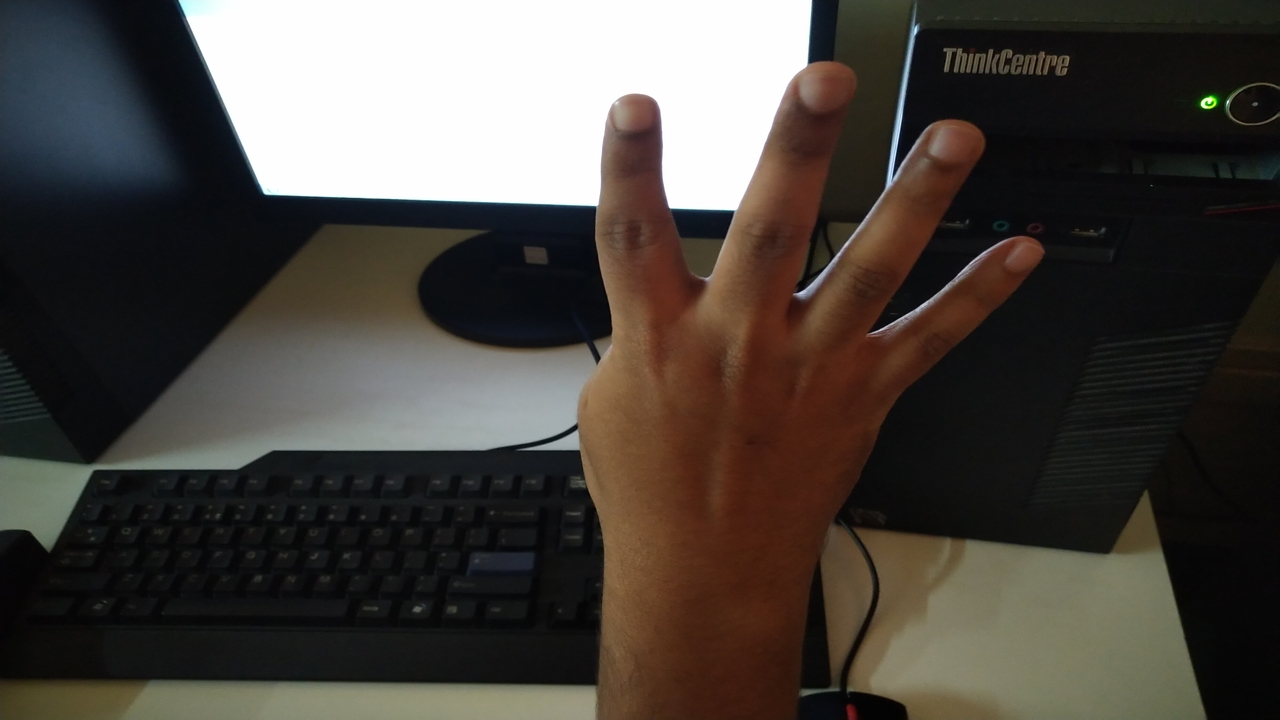fingertip: (786, 56, 864, 120), (912, 112, 992, 174), (598, 90, 664, 148), (986, 230, 1050, 278)
